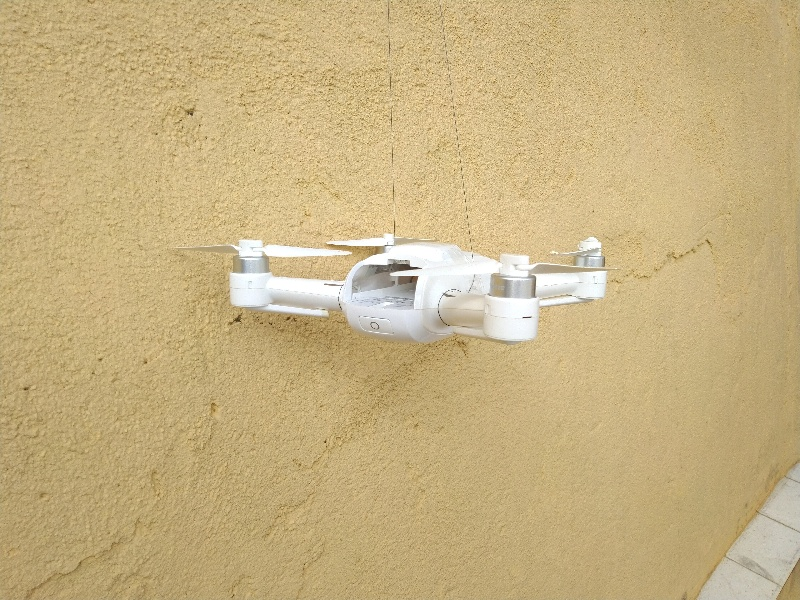drone: (196, 212, 621, 348)
